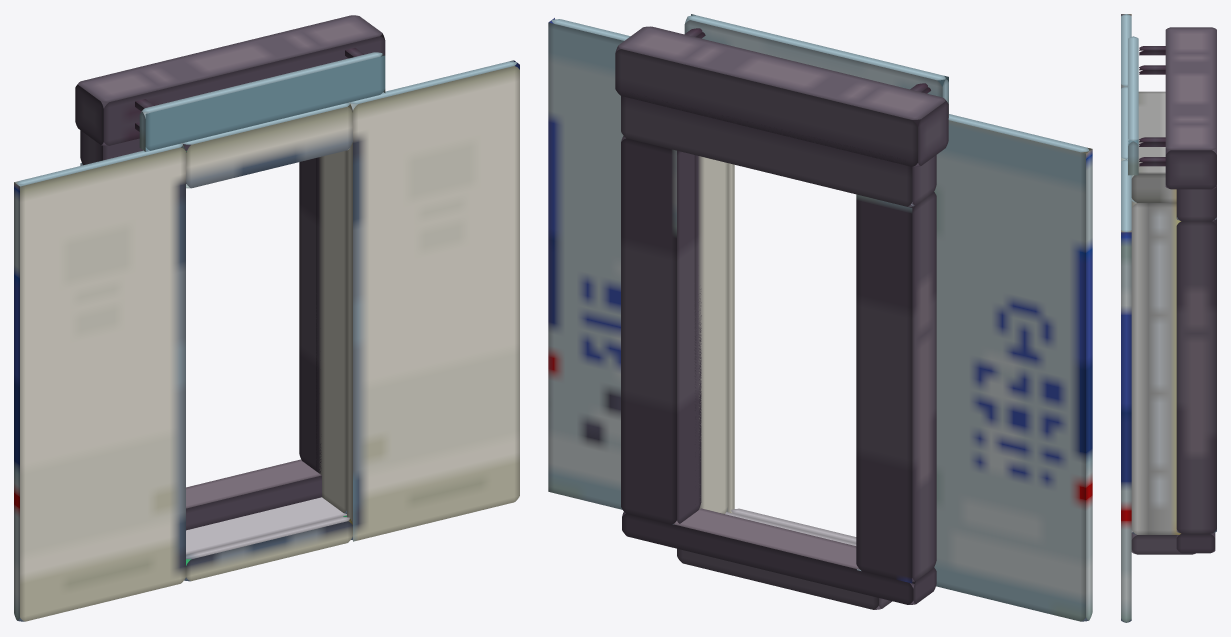
File: m1_end_face.obj
The picture shows the model from 3 angles, left to right: view 1: azimuth 30°, elevation 25°; view 2: azimuth 150°, elevation 25°; view 3: azimuth 270°, elevation 25°; orthographic projection. The views are drawn at different scales.
Visible parts, largest first — view 1: cube_selection_selection; view 2: cube_selection_selection; view 3: cube_selection_selection.
Part boxes in pixels (x1,y1,x2,y2): cube_selection_selection: [14, 15, 519, 621]; cube_selection_selection: [548, 14, 1092, 621]; cube_selection_selection: [1121, 14, 1216, 622].
Size of the model in its own units: 3 by 2.72 by 0.5562.
